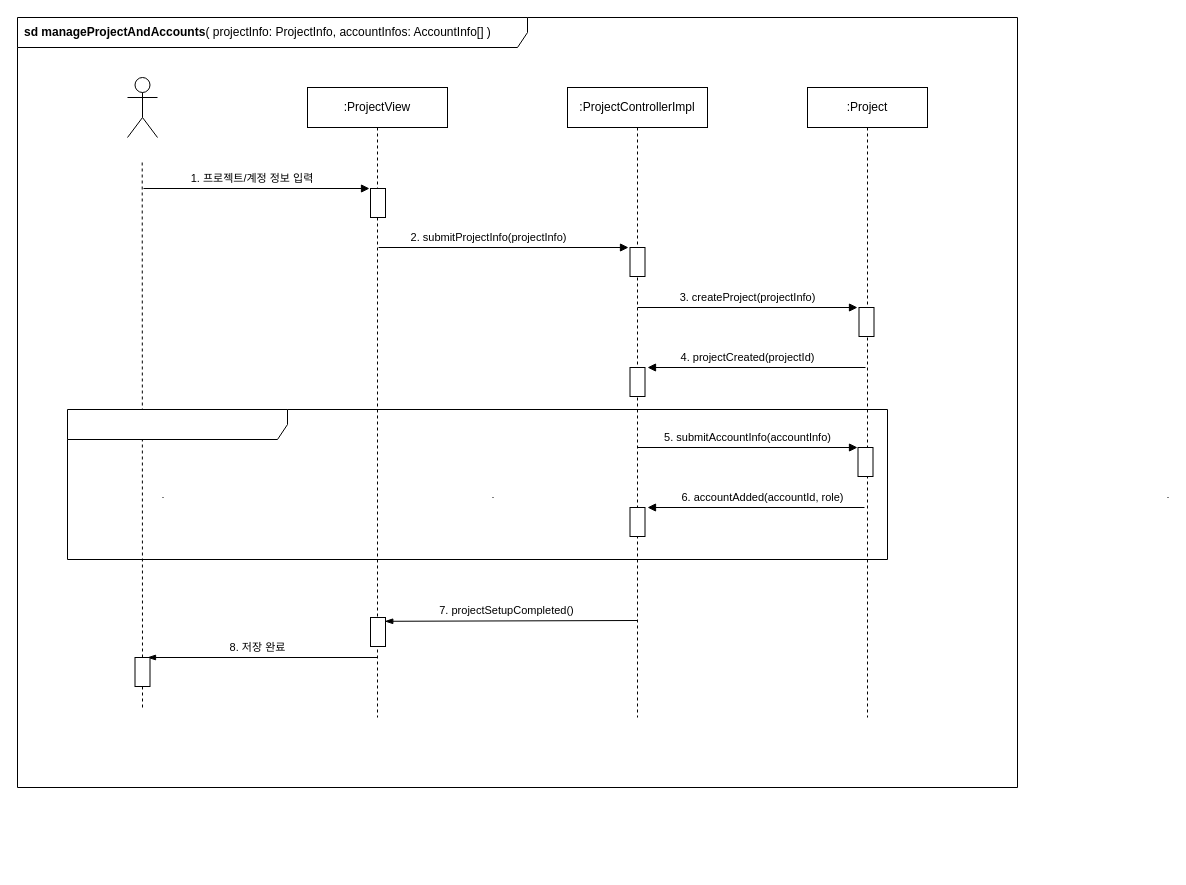
Image size: 1186x885. Some labels were removed from this diagram. Each missing label, with the centre of its shape:
": Admin" belongs at (x=142, y=107).
"loop [계정 정보가 남아있는 동안]" belongs at (x=477, y=484).
